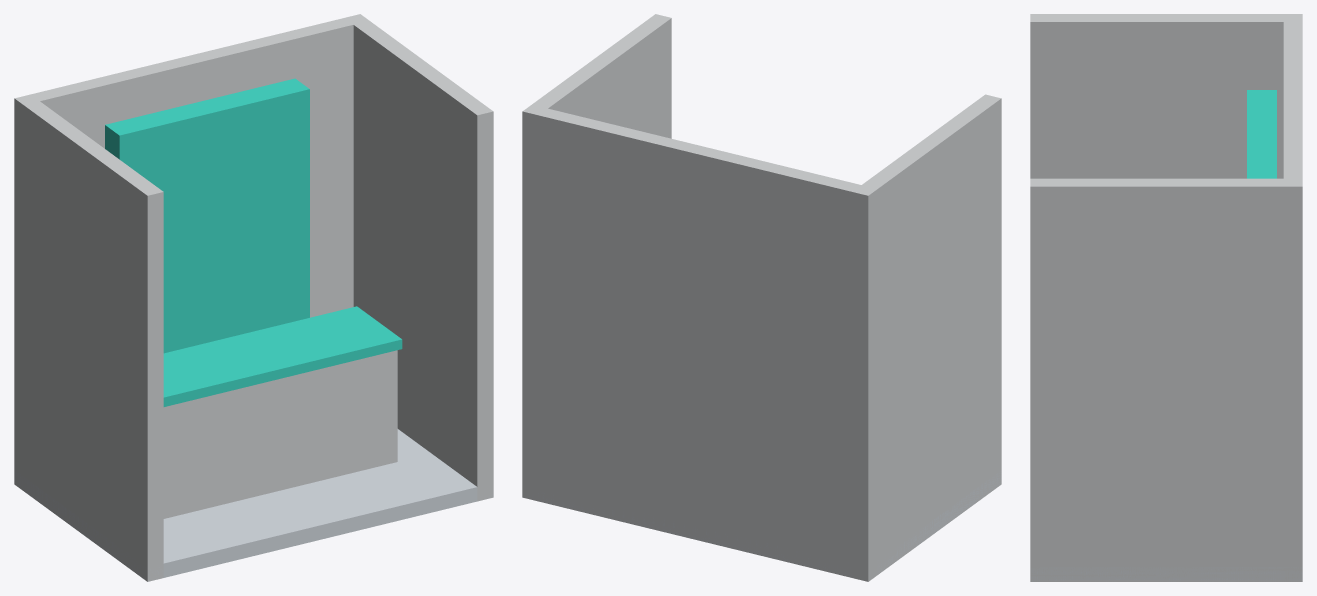
The picture shows the model from 3 angles, left to right: view 1: azimuth 30°, elevation 25°; view 2: azimuth 150°, elevation 25°; view 3: azimuth 270°, elevation 25°; orthographic projection. The views are drawn at different scales.
Visible parts, largest first — view 1: Exhibition Booth Concept; view 2: Exhibition Booth Concept; view 3: Exhibition Booth Concept.
Boxes of the visible parts, x1,y1,x2,y2 form: Exhibition Booth Concept: (14, 14, 493, 581); Exhibition Booth Concept: (522, 14, 1001, 581); Exhibition Booth Concept: (1030, 14, 1302, 581).
Size of the model in its own units: 3 by 3.2 by 2.
